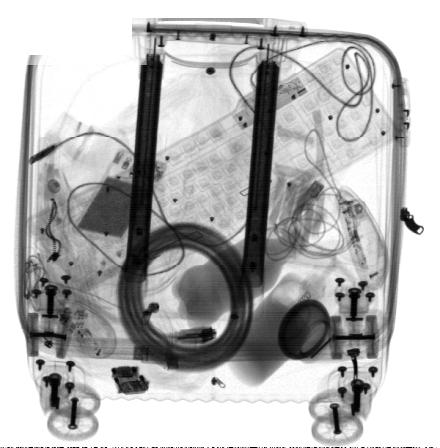Powerbank: (72, 149, 162, 244)
